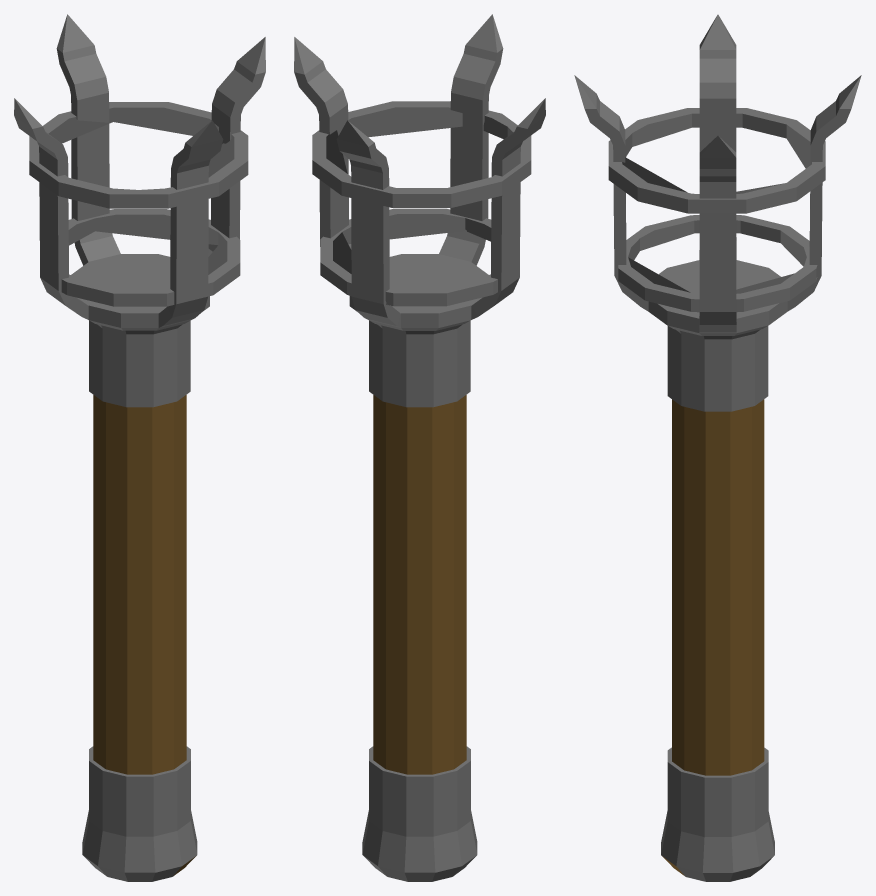
Rendered from Torch.fbx.
The picture shows the model from 3 angles, left to right: view 1: azimuth 30°, elevation 25°; view 2: azimuth 150°, elevation 25°; view 3: azimuth 270°, elevation 25°; orthographic projection.
Parts seen in each view (by area): view 1: Torch; view 2: Torch; view 3: Torch.
Part boxes in pixels (bbox=[...]): Torch: bbox=[14, 14, 265, 881]; Torch: bbox=[294, 14, 545, 881]; Torch: bbox=[574, 14, 861, 881].
Size of the model in its own units: 16.52 by 50 by 16.52.
